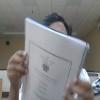notebook: (20, 16, 90, 99)
